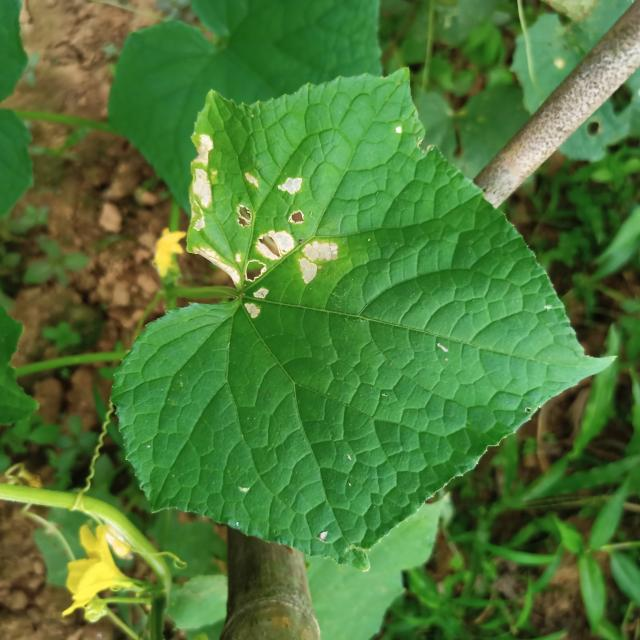disease_cucumber: (193, 137, 337, 319)
